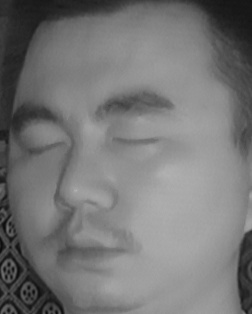blink: (111, 123, 163, 160), (21, 130, 69, 166)
mouth: (44, 219, 138, 278)
